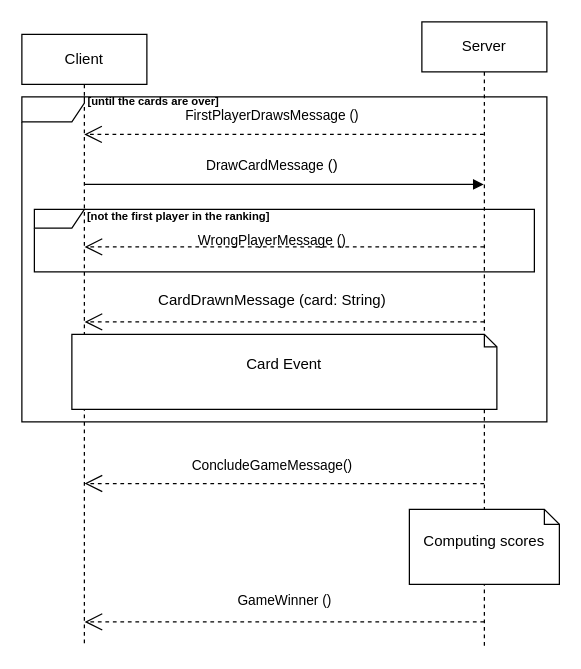
Image size: 581x669. Some labels were removed from this diagram. Here are the shapes that lost their labels. From the top down, the box of each, then its label:
(33, 208, 534, 272): opt
(21, 96, 547, 422): loop
